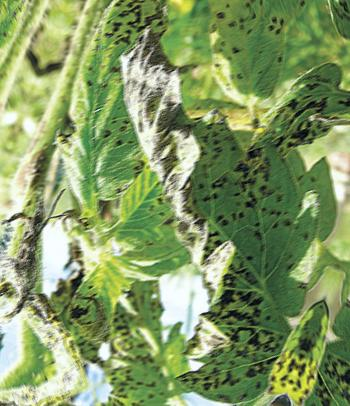Tomato Septoria leaf spot: (19, 37, 350, 406), (9, 0, 208, 226), (164, 0, 302, 117)
